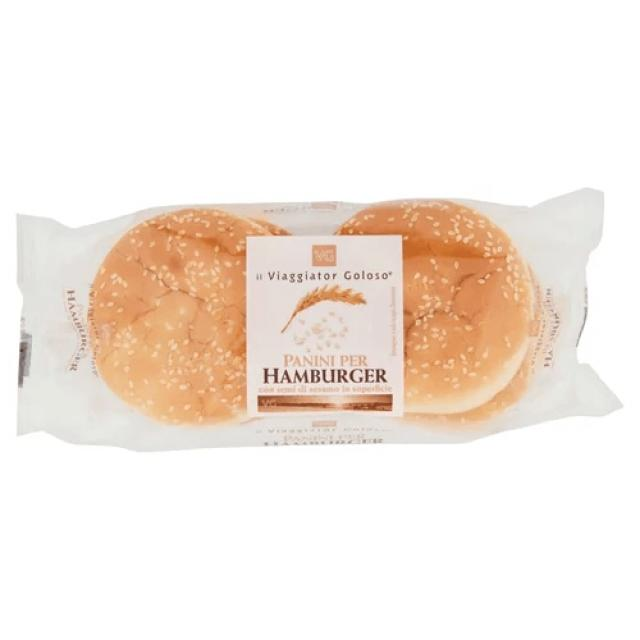Bread loaf: (17, 188, 622, 451)
